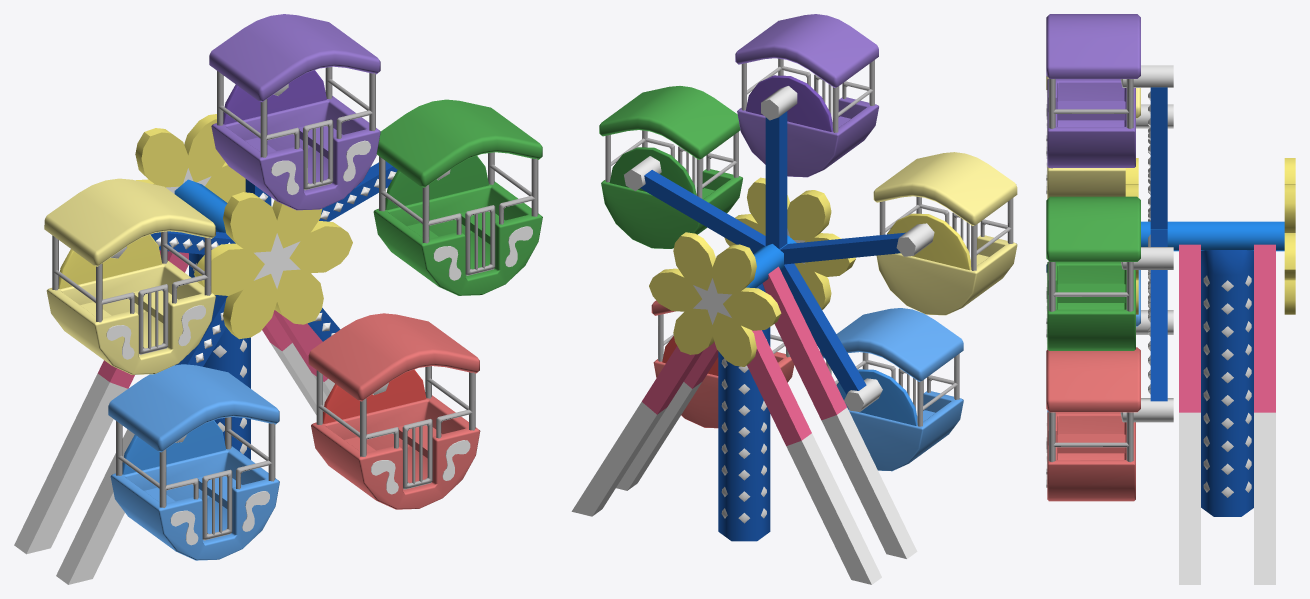
The model's file is attraction_008.gltf.
The picture shows the model from 3 angles, left to right: view 1: azimuth 30°, elevation 25°; view 2: azimuth 150°, elevation 25°; view 3: azimuth 270°, elevation 25°; orthographic projection. The views are drawn at different scales.
Visible parts, largest first — view 1: attraction_8_001, attraction_8_004, attraction_8_006, attraction_8_002, attraction_8_007, attraction_8_005, attraction_8_003; view 2: attraction_8_001, attraction_8_004, attraction_8_002, attraction_8_005, attraction_8_003, attraction_8_006, attraction_8_007; view 3: attraction_8_001, attraction_8_005, attraction_8_002, attraction_8_007, attraction_8_003, attraction_8_004.
Boxes of the visible parts, left/top/right/bottom form: attraction_8_001: left=14, top=114, right=352, bottom=584; attraction_8_004: left=44, top=178, right=215, bottom=374; attraction_8_006: left=108, top=364, right=279, bottom=560; attraction_8_002: left=209, top=14, right=380, bottom=210; attraction_8_007: left=308, top=313, right=480, bottom=509; attraction_8_005: left=373, top=99, right=542, bottom=295; attraction_8_003: left=110, top=84, right=450, bottom=442; attraction_8_001: left=571, top=177, right=917, bottom=584; attraction_8_004: left=873, top=152, right=1017, bottom=315; attraction_8_002: left=735, top=14, right=878, bottom=177; attraction_8_005: left=599, top=86, right=742, bottom=248; attraction_8_003: left=624, top=86, right=934, bottom=411; attraction_8_006: left=820, top=308, right=963, bottom=471; attraction_8_007: left=651, top=300, right=794, bottom=428; attraction_8_001: left=1125, top=158, right=1295, bottom=584; attraction_8_005: left=1046, top=196, right=1140, bottom=350; attraction_8_002: left=1046, top=14, right=1140, bottom=167; attraction_8_007: left=1046, top=347, right=1140, bottom=501; attraction_8_003: left=1120, top=65, right=1173, bottom=422; attraction_8_004: left=1046, top=76, right=1140, bottom=198.
Size of the model in its own units: 8.66 by 9.99 by 4.65.
2 materials, 1 textured.
